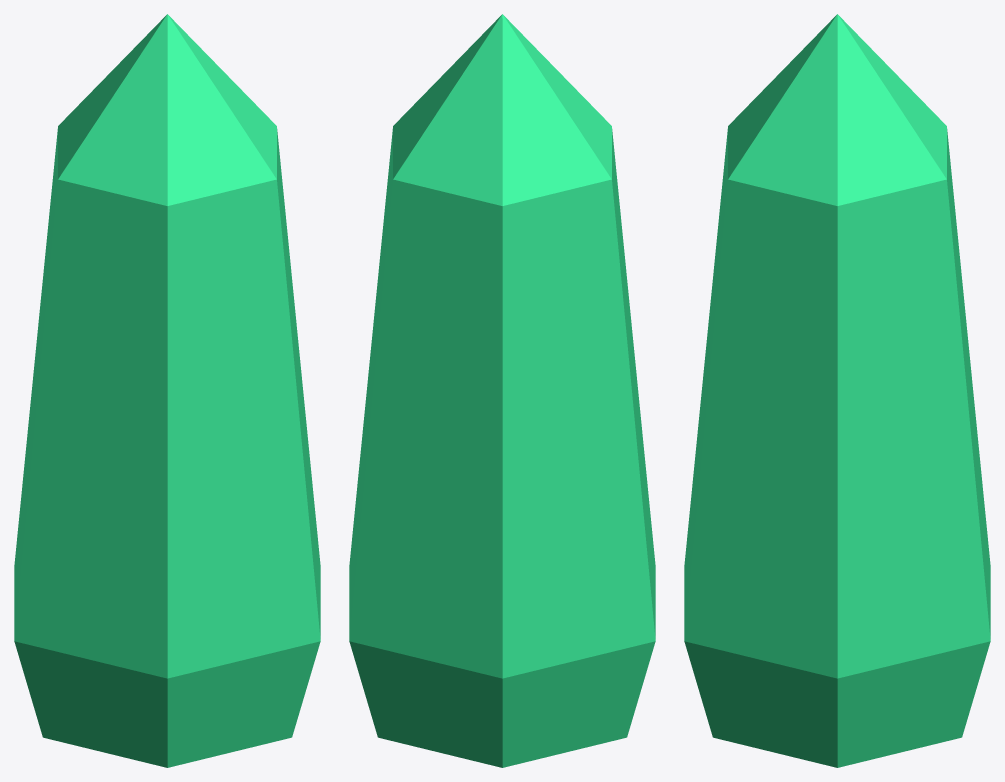
The model's file is Jem_43.fbx.
The picture shows the model from 3 angles, left to right: view 1: azimuth 30°, elevation 25°; view 2: azimuth 150°, elevation 25°; view 3: azimuth 270°, elevation 25°; orthographic projection.
Parts seen in each view (by area): view 1: Jem_43; view 2: Jem_43; view 3: Jem_43.
Boxes of the visible parts, x1,y1,x2,y2 form: Jem_43: (14, 14, 320, 767); Jem_43: (349, 14, 655, 767); Jem_43: (684, 14, 990, 767).
Size of the model in its own units: 27.72 by 59.93 by 24.01.
